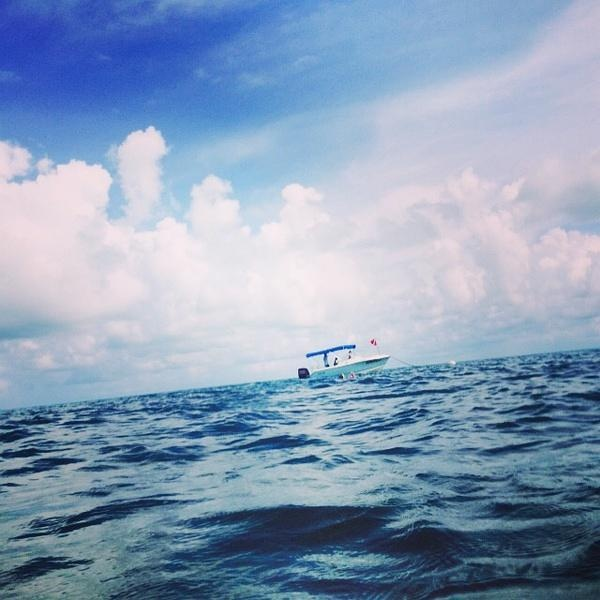otherboat: (297, 334, 395, 385)
